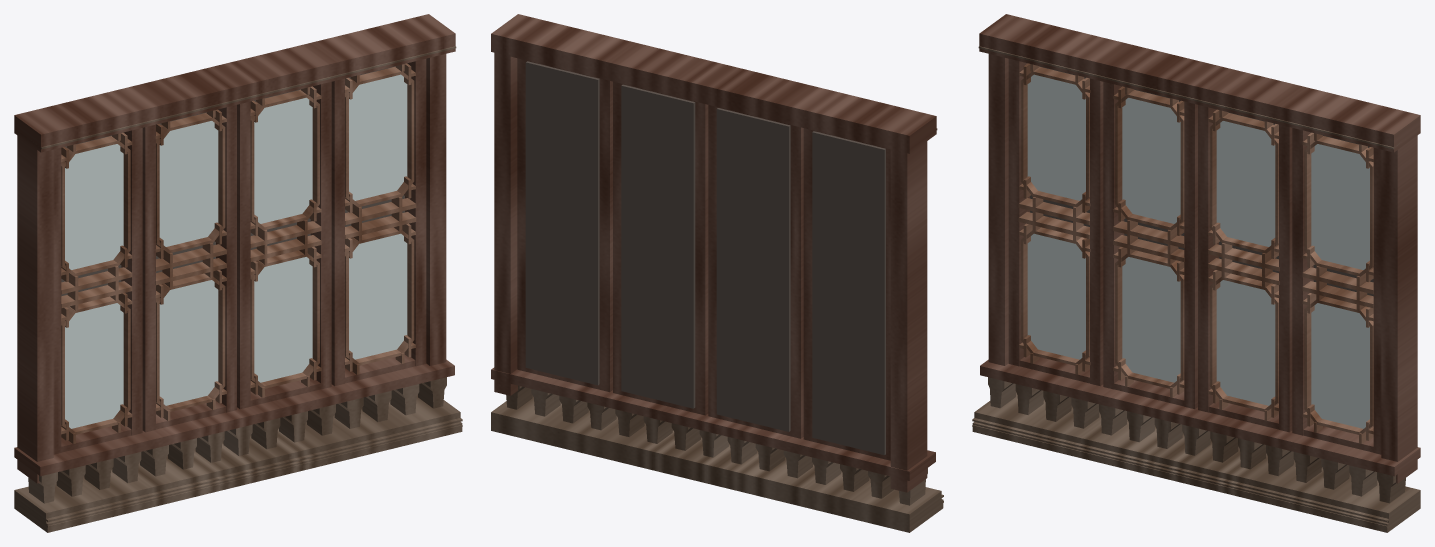
Rendered from dongxing-teahouse-octagonal-timber-lights-near.glb.
The picture shows the model from 3 angles, left to right: view 1: azimuth 30°, elevation 25°; view 2: azimuth 150°, elevation 25°; view 3: azimuth 330°, elevation 25°; orthographic projection.
Parts seen in each view (by area): view 1: 庄行东兴楼茶馆书场八角玻璃花窗与透空裙板; view 2: 庄行东兴楼茶馆书场八角玻璃花窗与透空裙板; view 3: 庄行东兴楼茶馆书场八角玻璃花窗与透空裙板.
Boxes of the visible parts, left/top/right/bottom form: 庄行东兴楼茶馆书场八角玻璃花窗与透空裙板: left=14, top=14, right=462, bottom=532; 庄行东兴楼茶馆书场八角玻璃花窗与透空裙板: left=491, top=14, right=943, bottom=532; 庄行东兴楼茶馆书场八角玻璃花窗与透空裙板: left=972, top=14, right=1420, bottom=532.
Bounding box in the file's own units: 2.28 × 2.07 × 0.323.
Materials: 5 (3 with a texture image).
